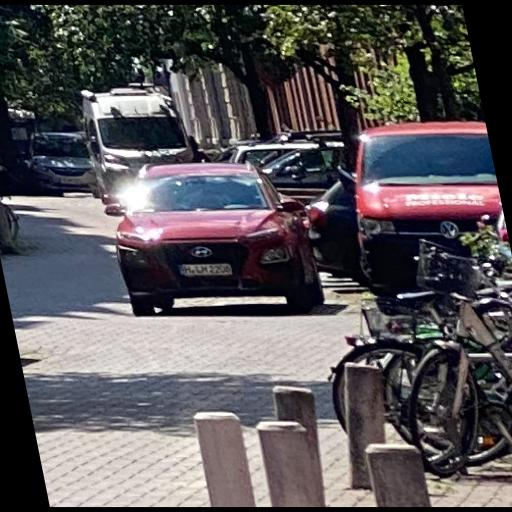tree: (19, 4, 487, 132), (262, 4, 419, 174), (412, 4, 477, 119), (402, 39, 438, 120)
